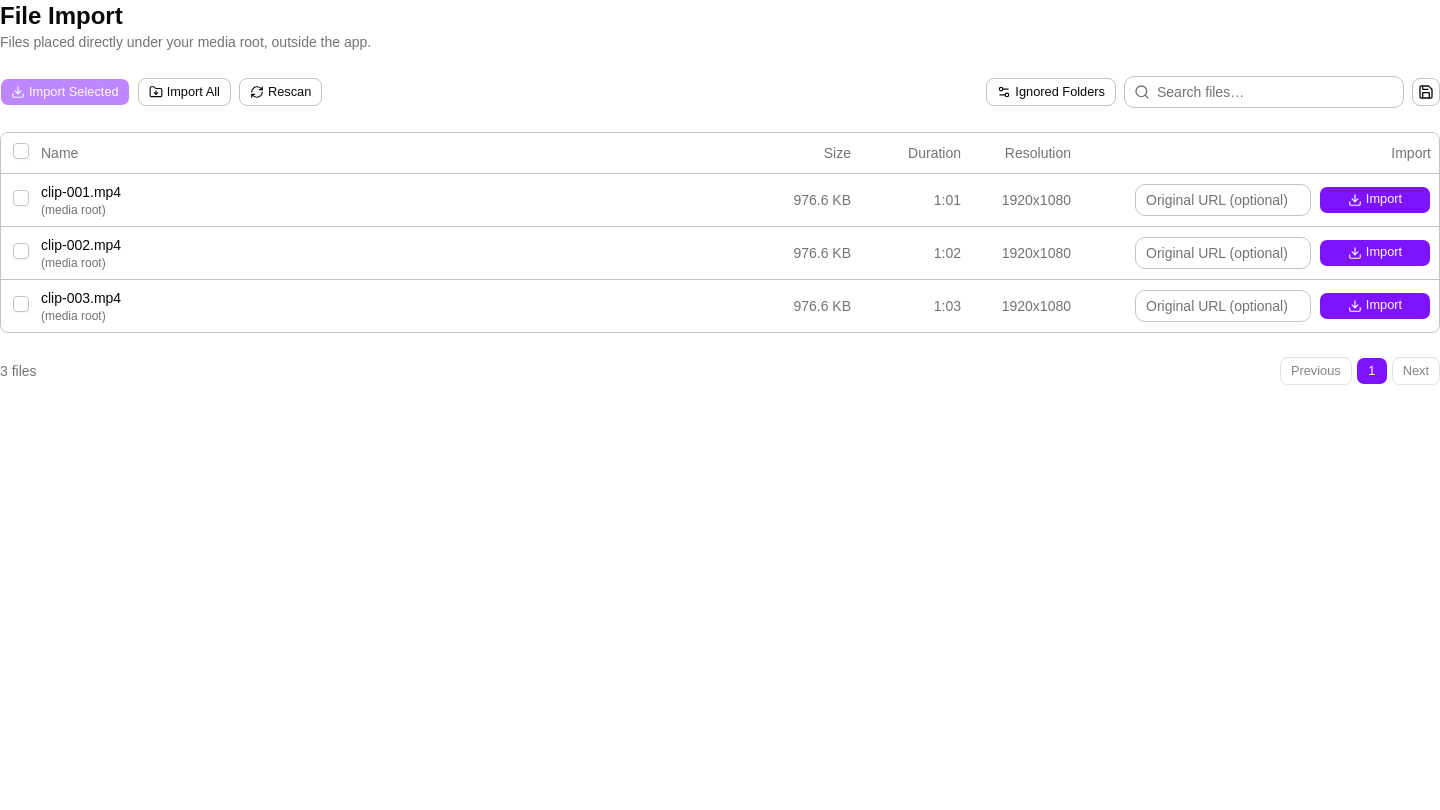
it: ImportPage table › importing › a partly failed bulk import reports both counts, and only the failed file stays importable
Expected: the text "clip-001.mp4" is shown, [41,184,121,200]
Click the button "Import All".
click(184, 92)  # box [138,78,231,106]
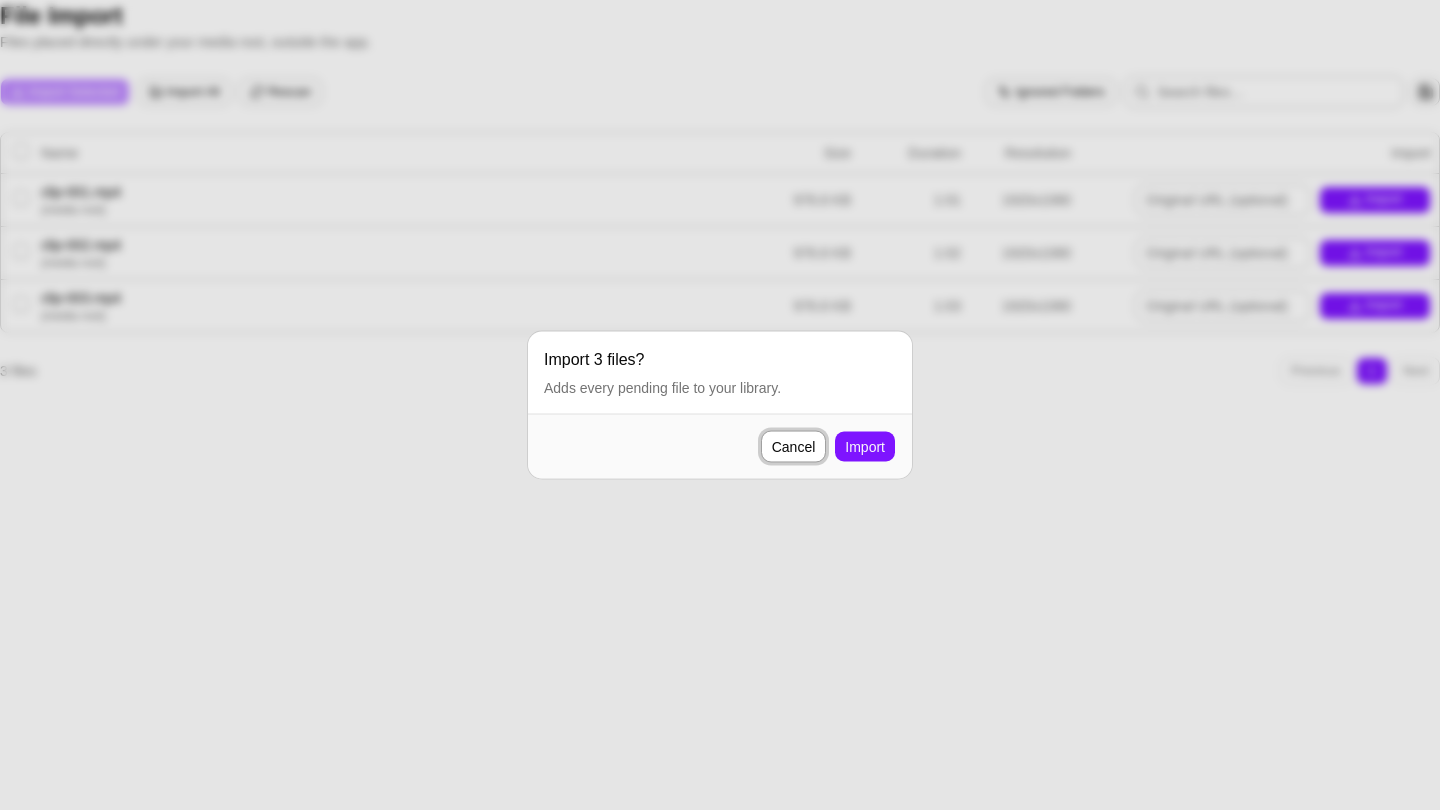
Click the button "Import".
click(865, 446)  # box [834,430,896,462]
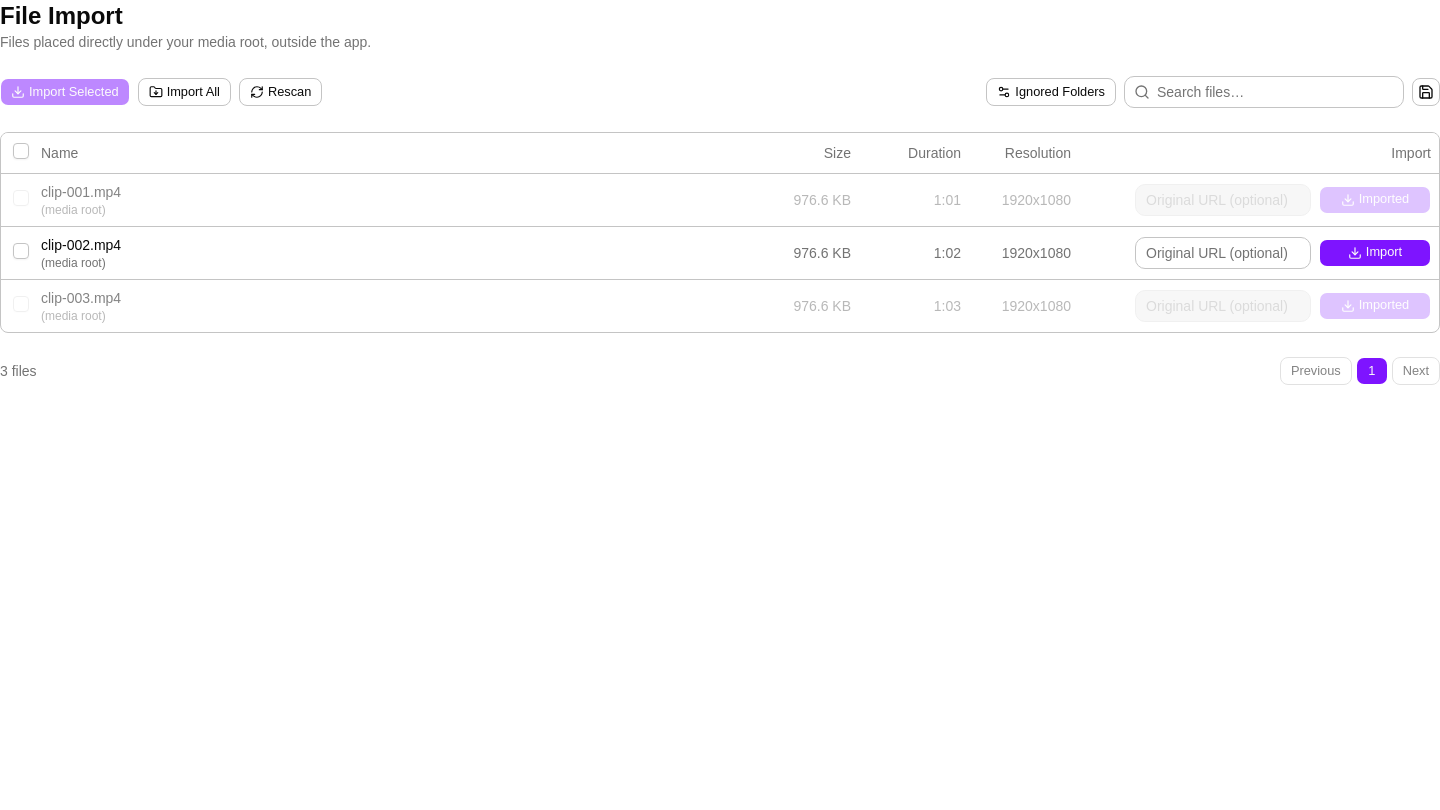
Expected: the button "Import" is enabled, [1319,238,1431,266]
Now the button "Imported" in the row of "clip-001.mp4" is shown, box [1319,186,1431,214]
